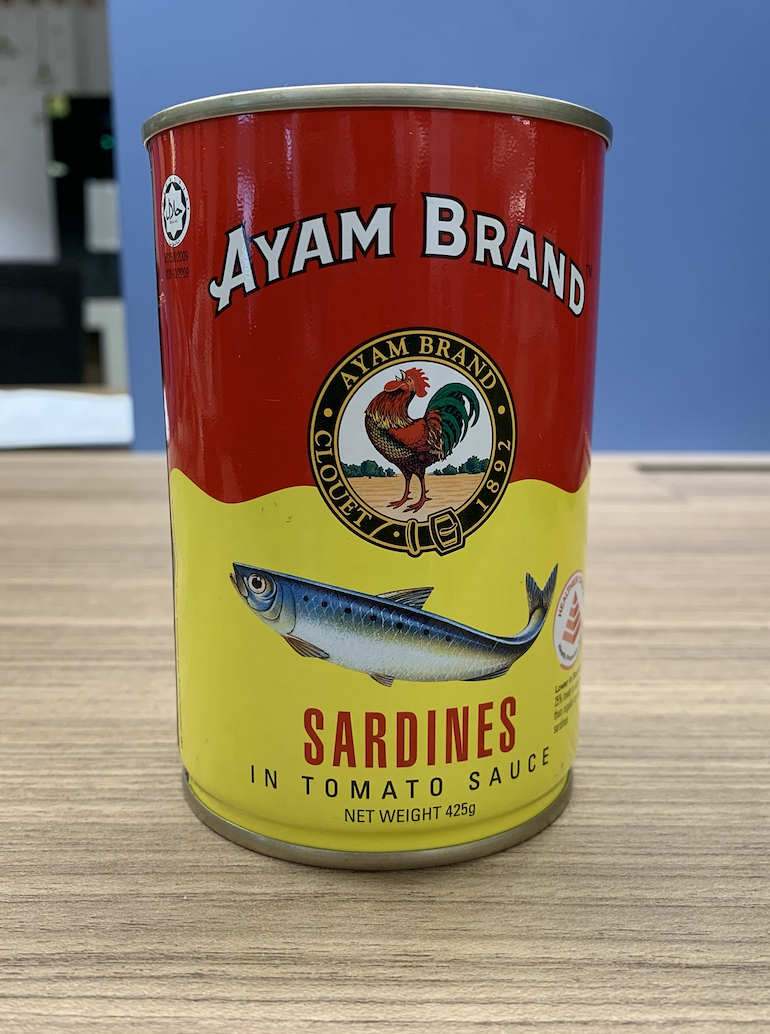sardines_400g-499g: (161, 121, 582, 831)
